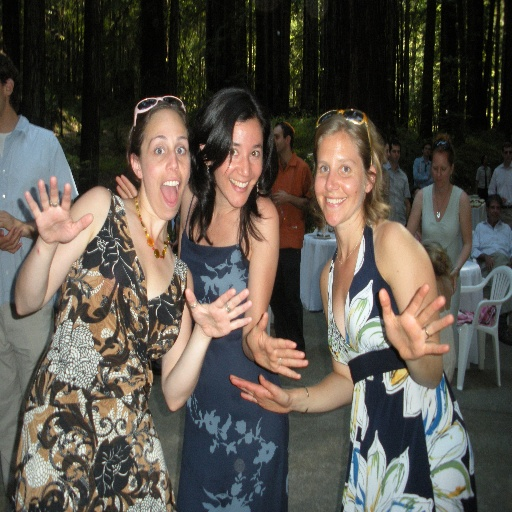hand: (11, 164, 92, 281), (378, 284, 450, 363), (245, 309, 309, 381), (184, 286, 252, 339), (227, 373, 292, 416), (114, 173, 138, 202), (0, 225, 22, 254), (0, 209, 21, 233), (270, 189, 288, 208), (448, 268, 457, 296), (484, 254, 495, 275)
